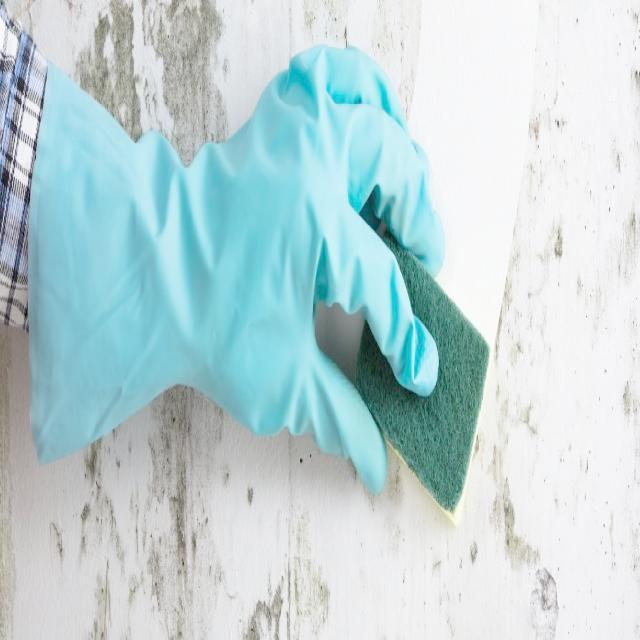wall_stain: (490, 87, 640, 435), (80, 387, 219, 640), (78, 1, 228, 162), (485, 435, 564, 640), (285, 0, 412, 110), (246, 525, 324, 640)
